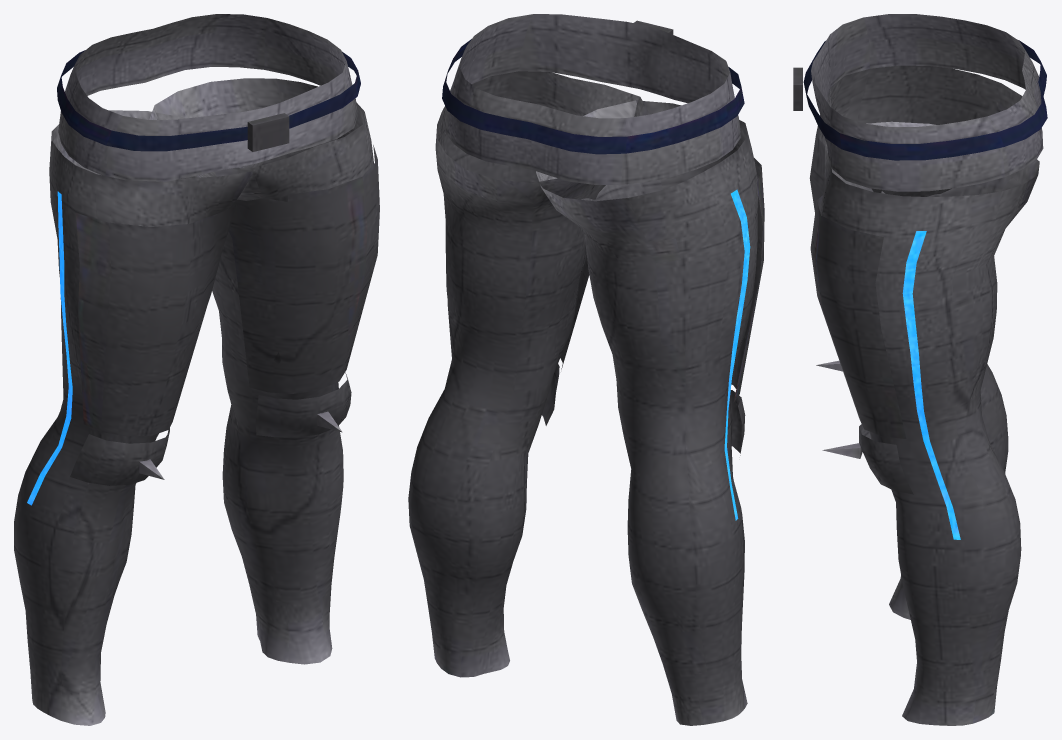
The model's file is Calça_do_Guardião_nivel100.glb.
3 views of the same model, side by side, from view 1: azimuth 30°, elevation 25°; view 2: azimuth 150°, elevation 25°; view 3: azimuth 270°, elevation 25° (orthographic). The views are drawn at different scales.
Parts seen in each view (by area): view 1: calca_do_guardiao_nivel100; view 2: calca_do_guardiao_nivel100; view 3: calca_do_guardiao_nivel100.
Boxes of the visible parts, <box> form: calca_do_guardiao_nivel100: <box>14,14,379,725</box>; calca_do_guardiao_nivel100: <box>408,14,764,725</box>; calca_do_guardiao_nivel100: <box>793,14,1047,725</box>.
Size of the model in its own units: 0.4438 by 0.8351 by 0.321.
Materials: 1 (1 with a texture image).
